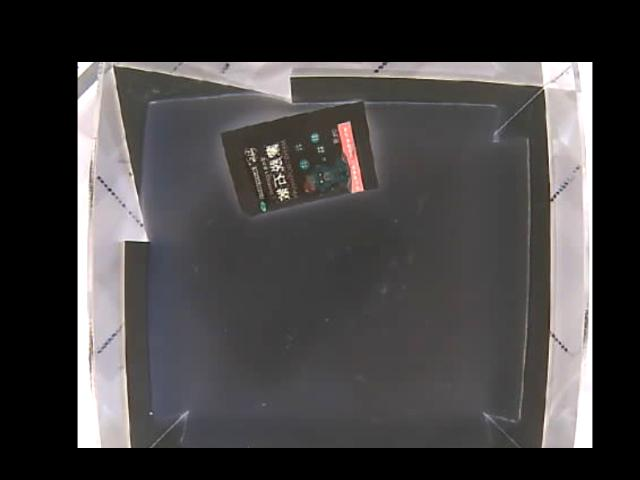Medicine: (218, 99, 382, 219)
